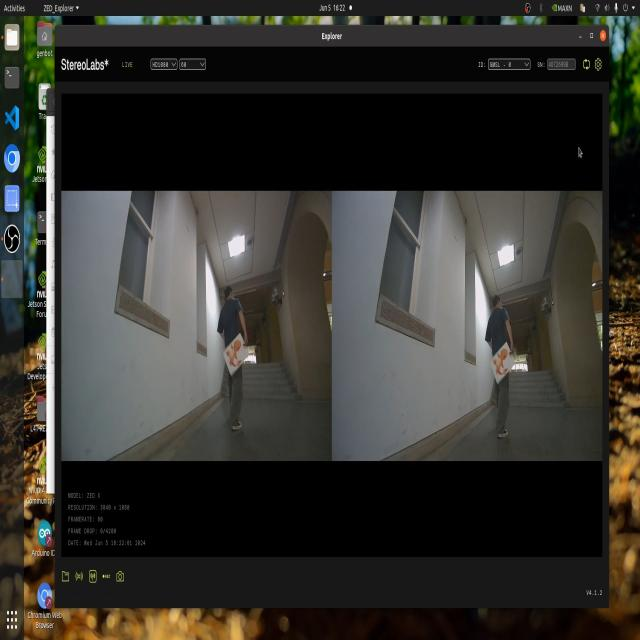red: (494, 340, 508, 378), (225, 340, 242, 369)
